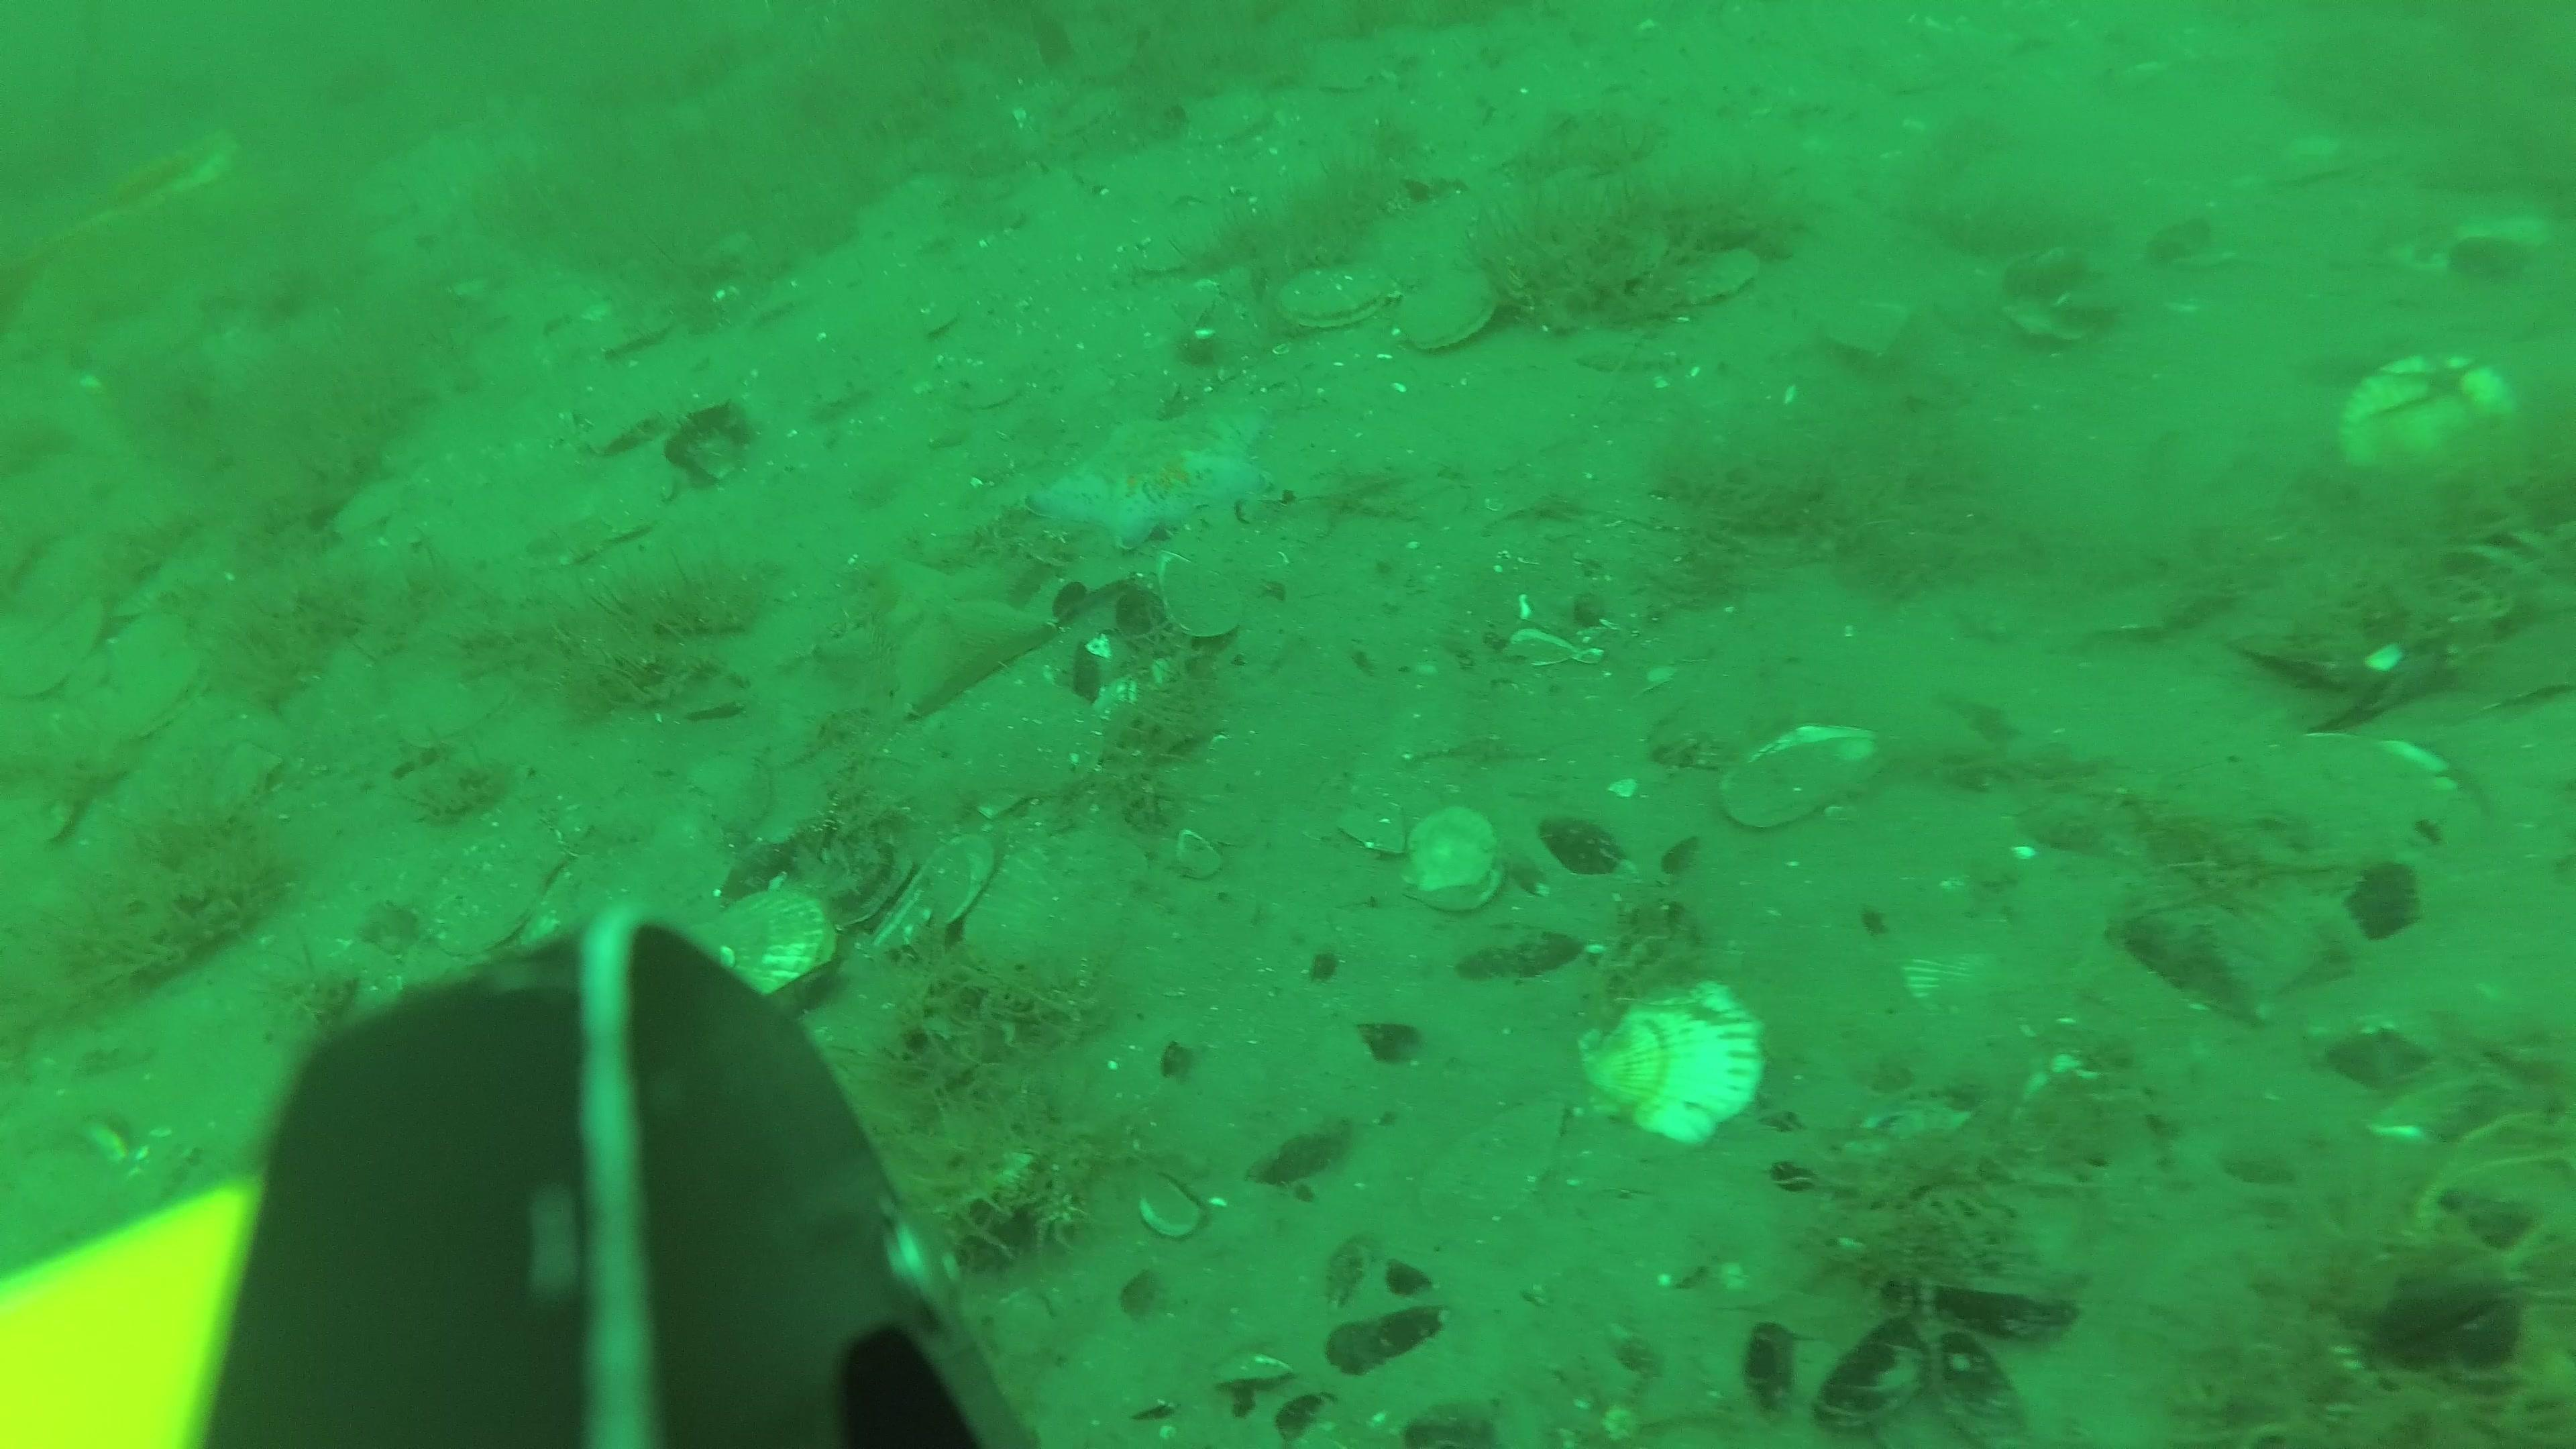scallop: (1578, 975, 1771, 1148), (665, 885, 844, 1028), (2344, 356, 2512, 492), (425, 824, 561, 957), (1714, 731, 1879, 828), (1399, 812, 1507, 922), (1399, 269, 1502, 361), (1277, 265, 1399, 329)
starfish: (816, 545, 1060, 717), (1024, 409, 1277, 556)
